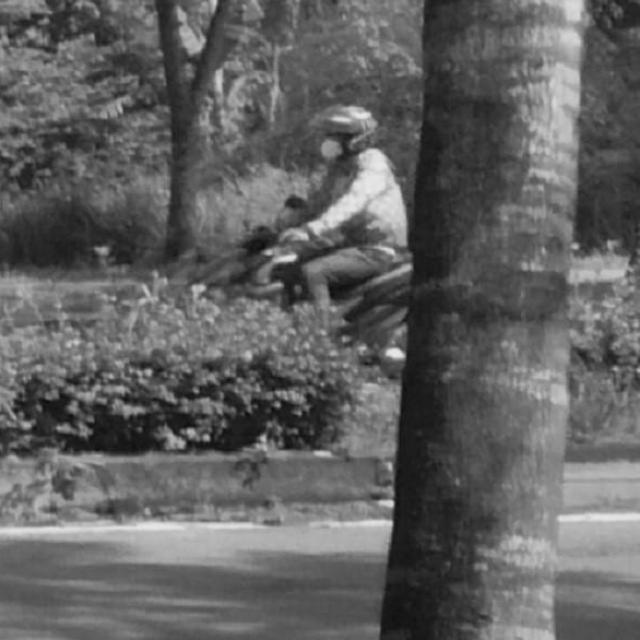Helmet: (312, 98, 384, 170)
